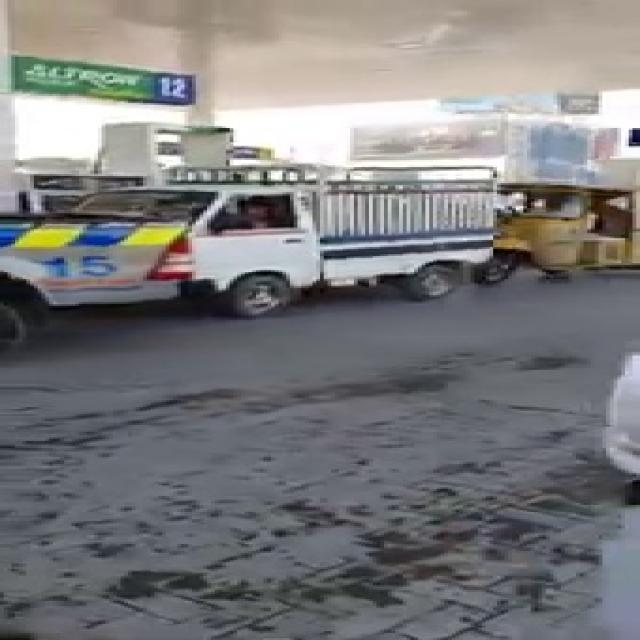police: (0, 215, 203, 320)
